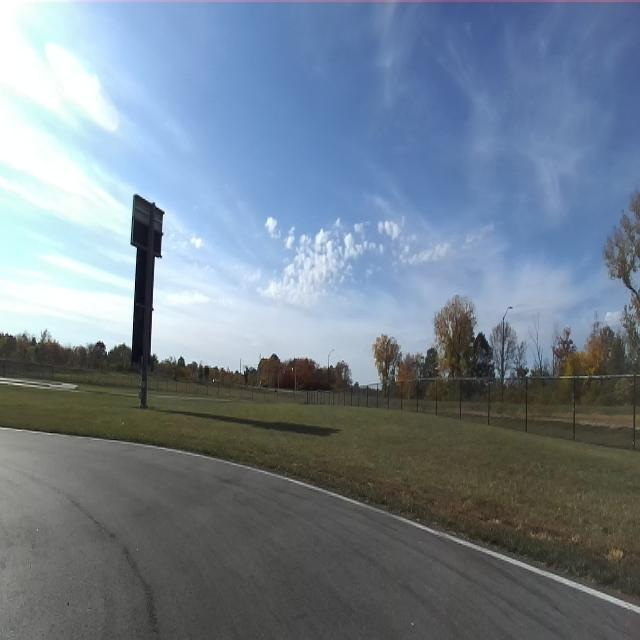white-line: (1, 427, 640, 615)
